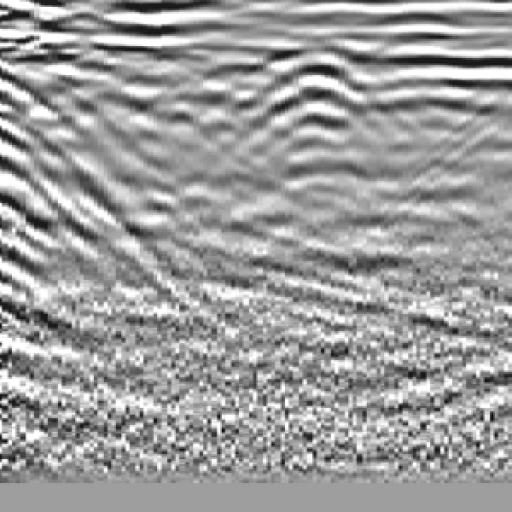metalic: (224, 35, 402, 287)
nonmetalic: (1, 43, 127, 282)
